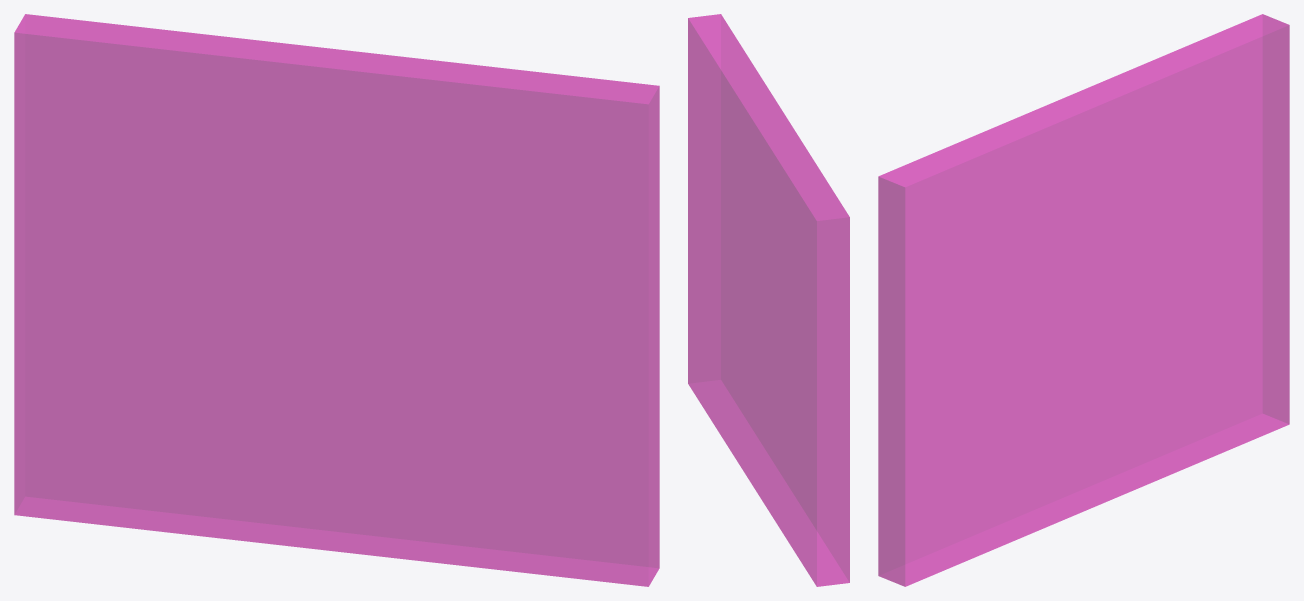
Rendered from SM_Bld_45_Wall_03_Collision.fbx.
3 views of the same model, side by side, from view 1: azimuth 30°, elevation 25°; view 2: azimuth 150°, elevation 25°; view 3: azimuth 270°, elevation 25° (orthographic). The views are drawn at different scales.
Parts seen in each view (by area): view 1: SM_Bld_45_Wall_03_Collision; view 2: SM_Bld_45_Wall_03_Collision; view 3: SM_Bld_45_Wall_03_Collision.
Part boxes in pixels (bbox=[...]): SM_Bld_45_Wall_03_Collision: bbox=[14, 14, 659, 586]; SM_Bld_45_Wall_03_Collision: bbox=[688, 14, 849, 586]; SM_Bld_45_Wall_03_Collision: bbox=[878, 14, 1289, 586].
Size of the model in its own units: 281 by 302 by 282.
